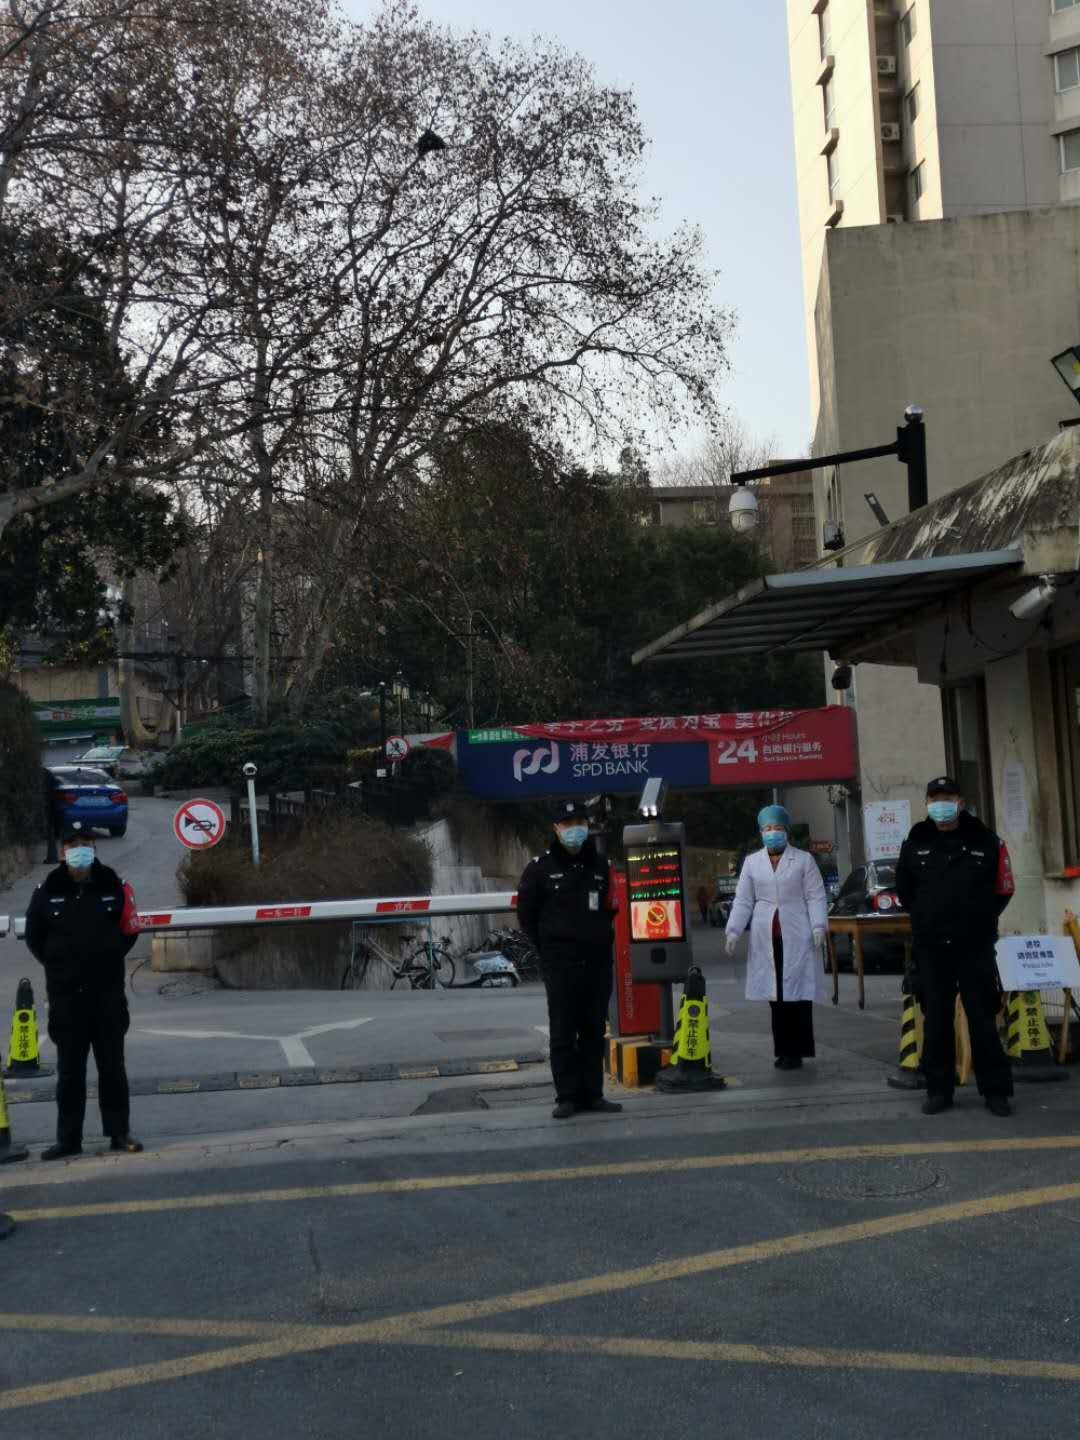correctlyWear: (552, 814, 590, 850), (60, 835, 98, 870), (923, 790, 962, 823), (758, 819, 788, 853)
